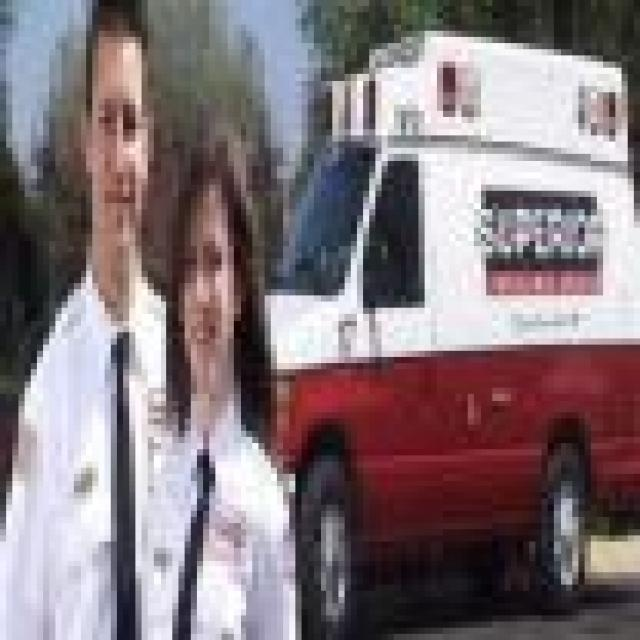emergency-vehicle: (240, 31, 640, 640)
